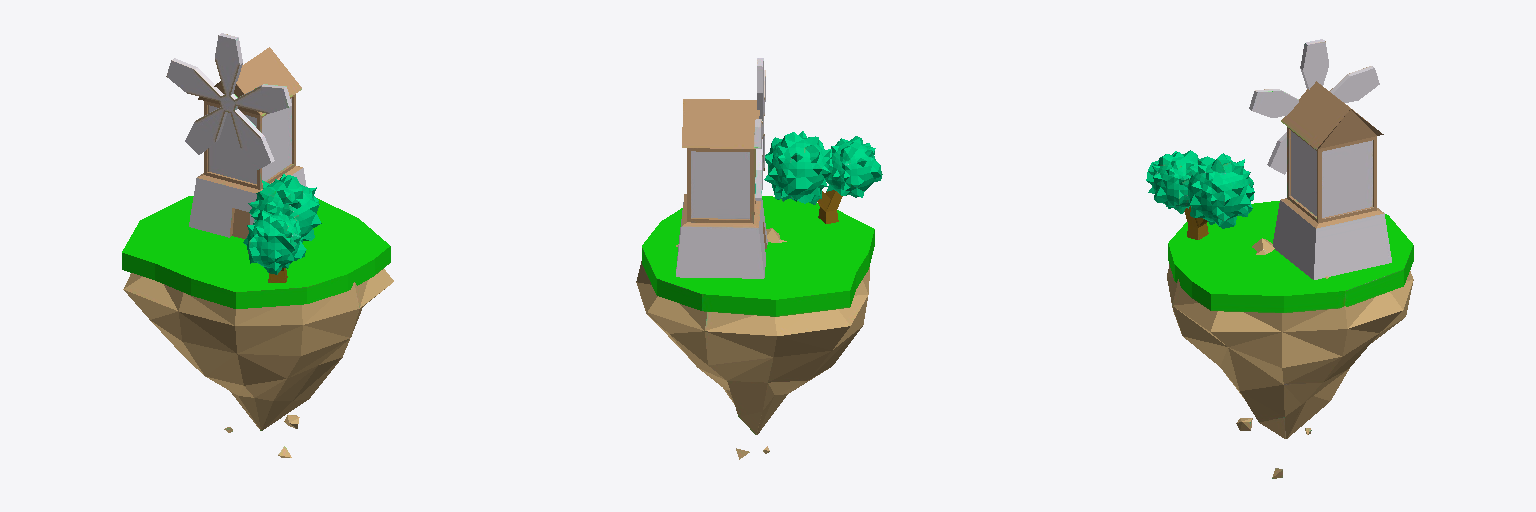
The picture shows the model from 3 angles: view 1: azimuth 30°, elevation 25°; view 2: azimuth 150°, elevation 25°; view 3: azimuth 270°, elevation 25°; orthographic projection.
Visible parts, largest first — view 1: Tree_Untitled.004; view 2: Tree_Untitled.004; view 3: Tree_Untitled.004.
Boxes of the visible parts, x1=… form: Tree_Untitled.004: x1=122, y1=33, x2=393, y2=457; Tree_Untitled.004: x1=636, y1=58, x2=882, y2=459; Tree_Untitled.004: x1=1146, y1=39, x2=1413, y2=478.
Bounding box in the file's own units: 1.05 × 1.95 × 1.13.
Materials: 6 (1 with a texture image).